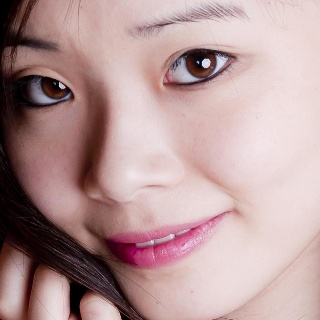without_mask: (0, 0, 320, 320)
